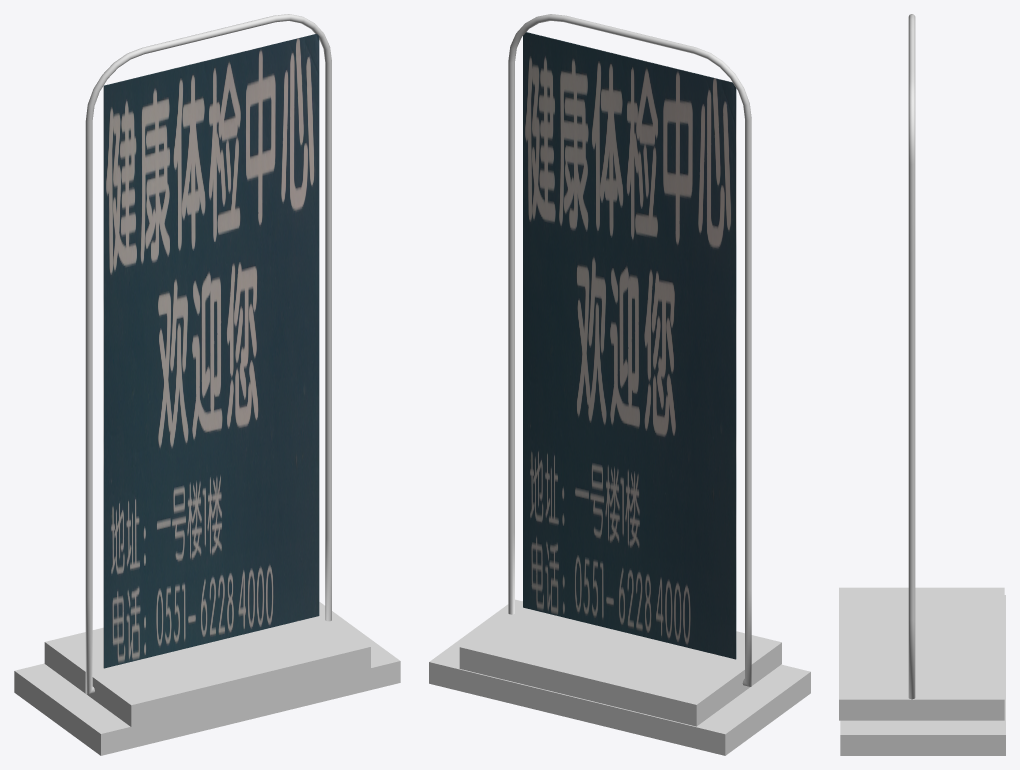
Rendered from lipai.FBX.
3 views of the same model, side by side, from view 1: azimuth 30°, elevation 25°; view 2: azimuth 150°, elevation 25°; view 3: azimuth 270°, elevation 25° (orthographic). The views are drawn at different scales.
Parts seen in each view (by area): view 1: Box001, Box003, Box002, Loft001; view 2: Box001, Box003, Box002, Loft001; view 3: Box003, Box002, Loft001.
Boxes of the visible parts, box(x1,y1,x2,y2) form: Box001: box(103, 34, 319, 668); Box003: box(44, 609, 370, 726); Box002: box(14, 602, 400, 755); Loft001: box(85, 14, 331, 694); Box001: box(523, 32, 736, 659); Box003: box(459, 601, 781, 726); Box002: box(429, 599, 810, 755); Loft001: box(508, 14, 751, 686); Box003: box(839, 587, 1004, 720); Box002: box(840, 595, 1005, 755); Loft001: box(908, 14, 915, 699).
Size of the model in its own units: 50.06 by 106 by 25.21.
